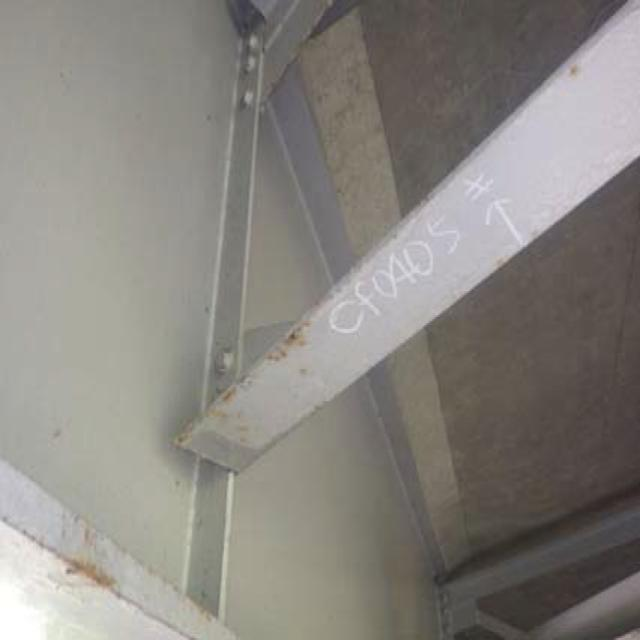corrosion: (177, 289, 304, 470), (56, 537, 127, 602)
